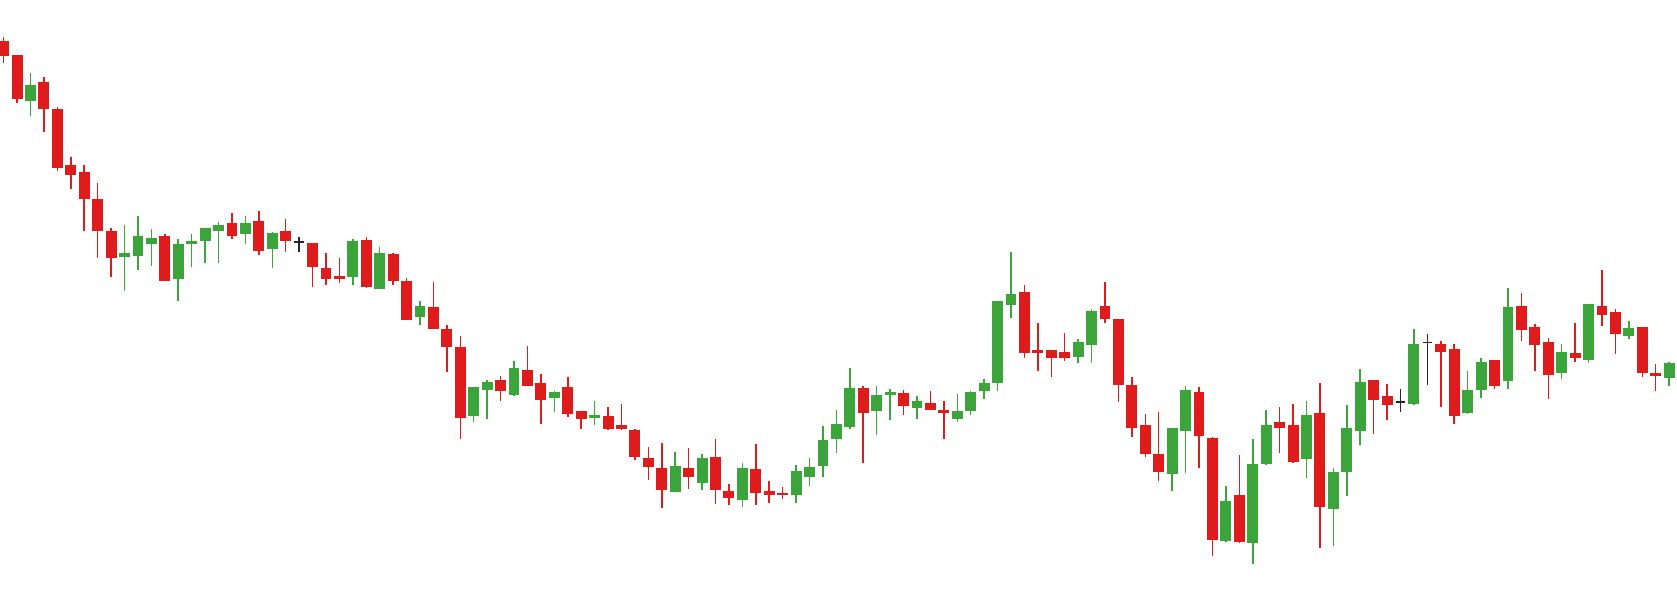sell: (1501, 270, 1607, 357)
